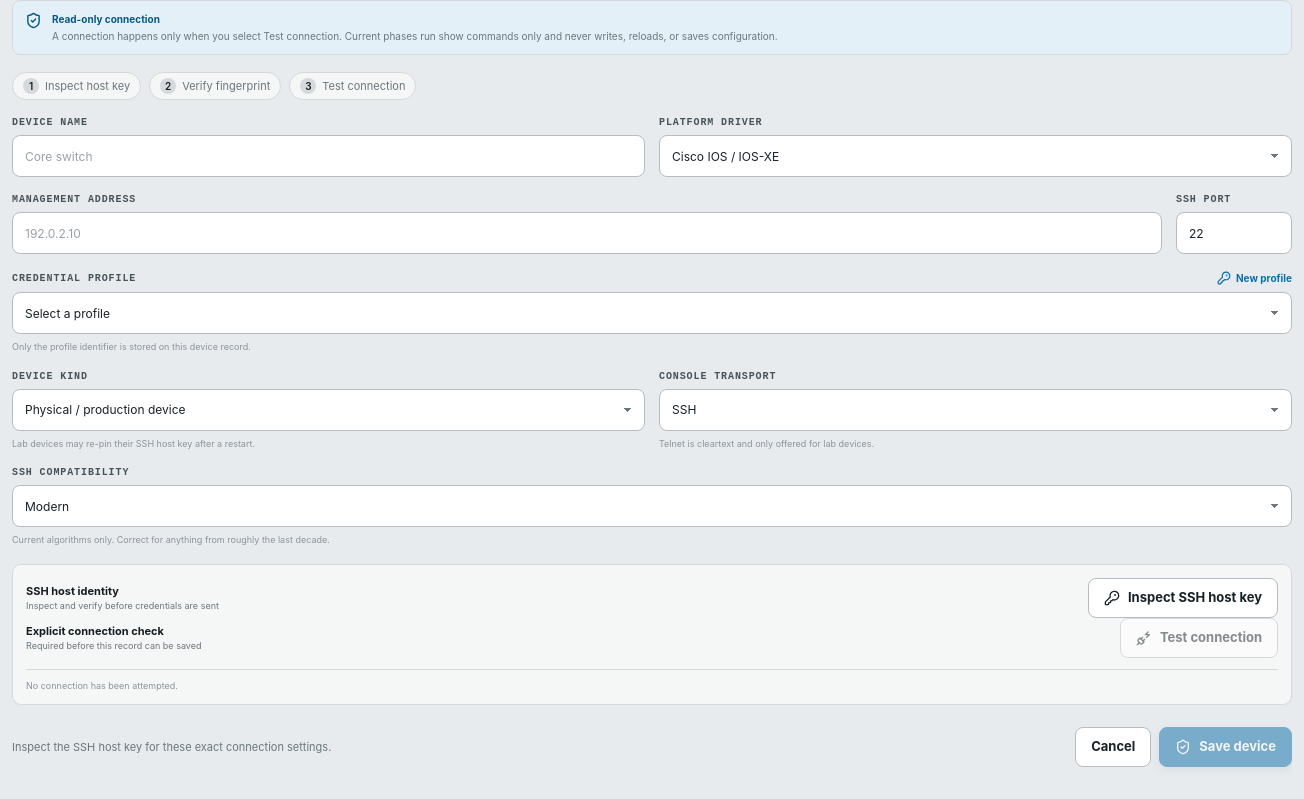
it: lab devices and telnet › warns that telnet is cleartext and never carries the stored credentials
The width and height of the screenshot is (1304, 799).
Select "Virtual lab (GNS3, EVE-NG)" in the dropdown labelled "Device kind" at (328, 410), box [12,389,645,431]
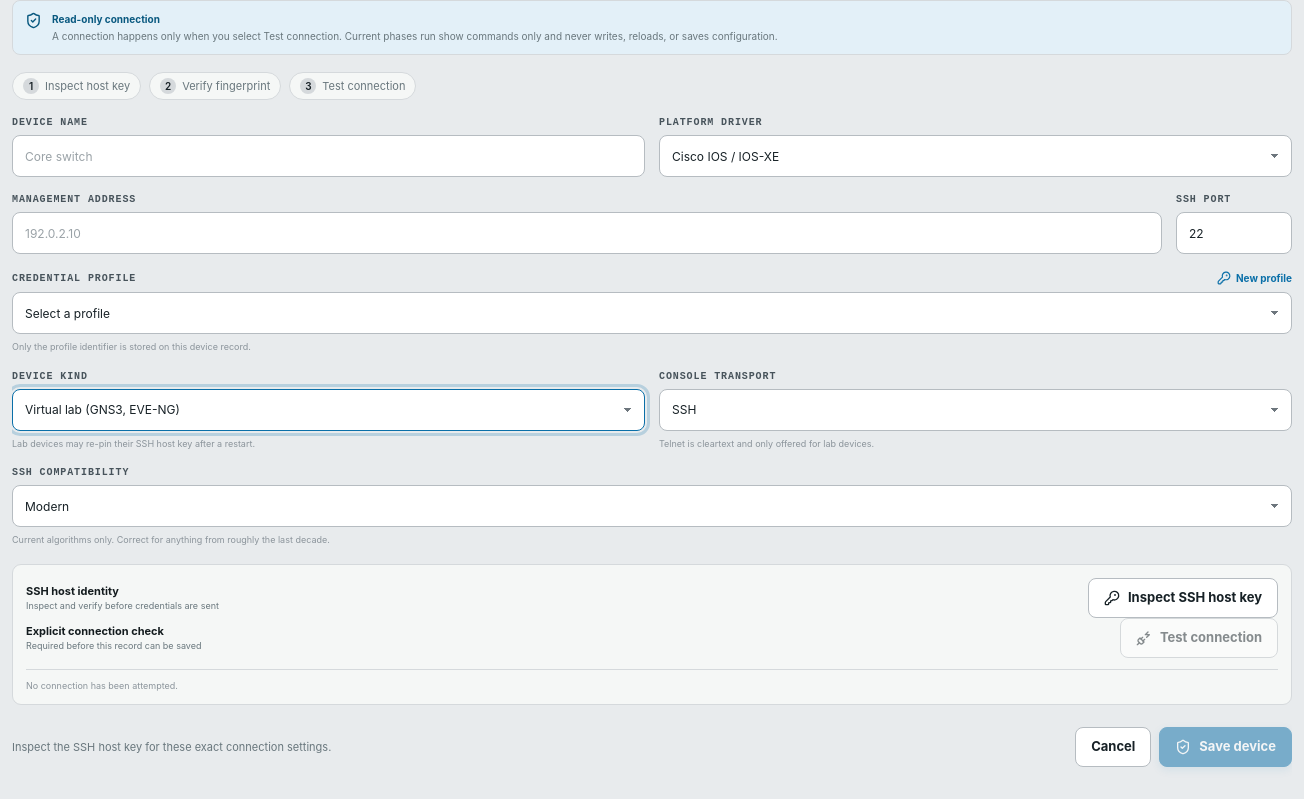
Select "Telnet" in the dropdown labelled "Console transport" at (976, 410), box [659,389,1292,431]
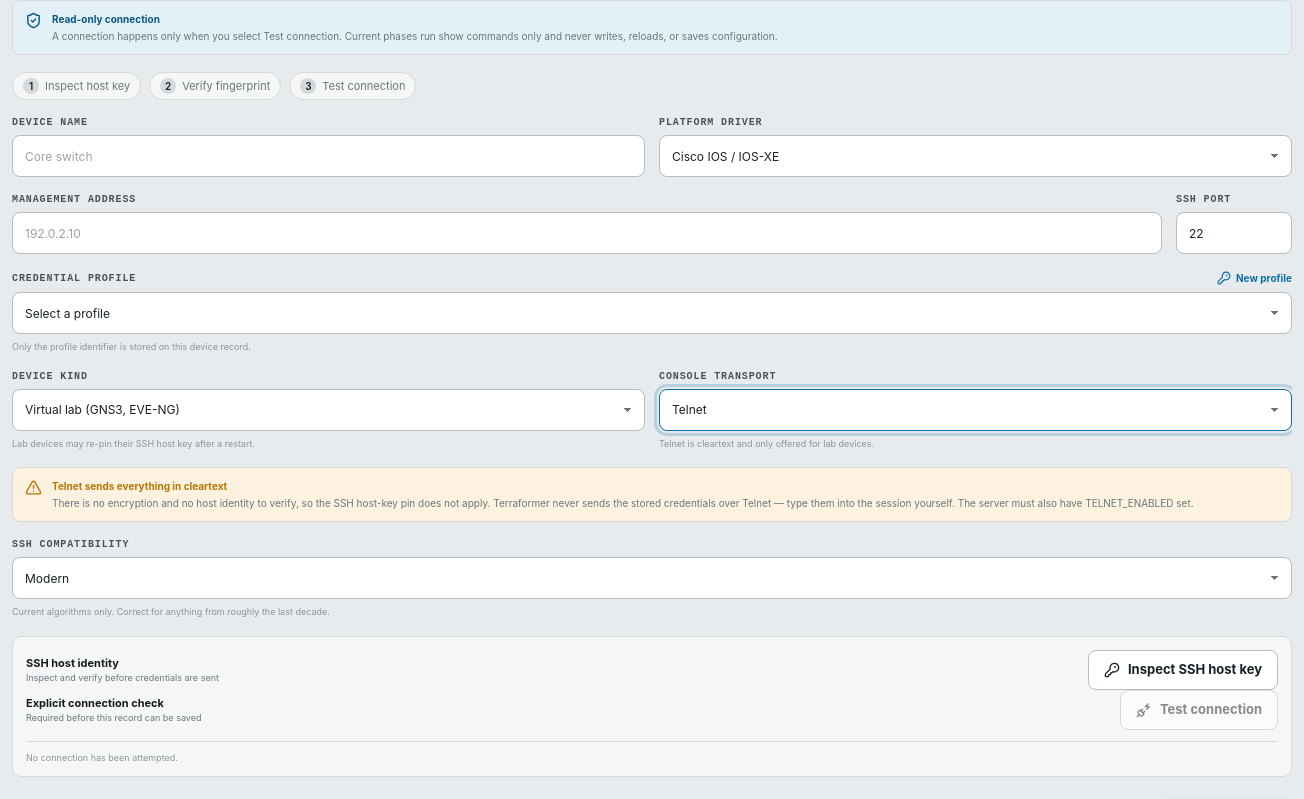
Expected: the text "Telnet sends everything in cleartext" is shown, [52,480,227,492]
Expected: the text "never sends the stored credentials over Telnet" is shown, [52,497,1194,509]
